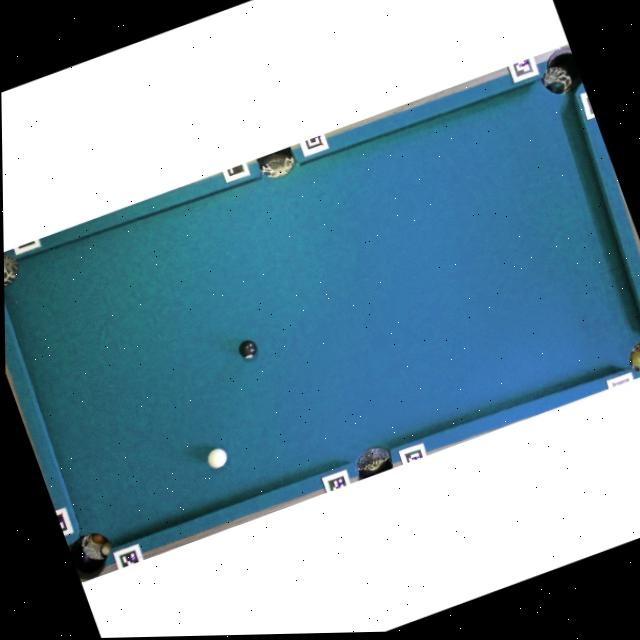cue ball: (203, 444, 231, 472)
other: (235, 336, 260, 362)
